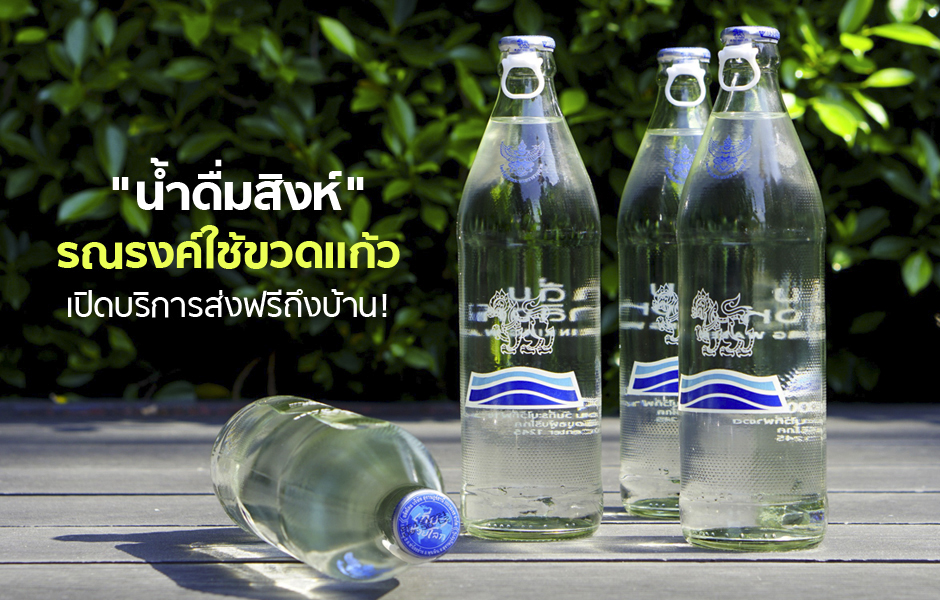glass_bottle: (615, 23, 834, 555), (457, 29, 607, 544), (204, 391, 455, 587)
